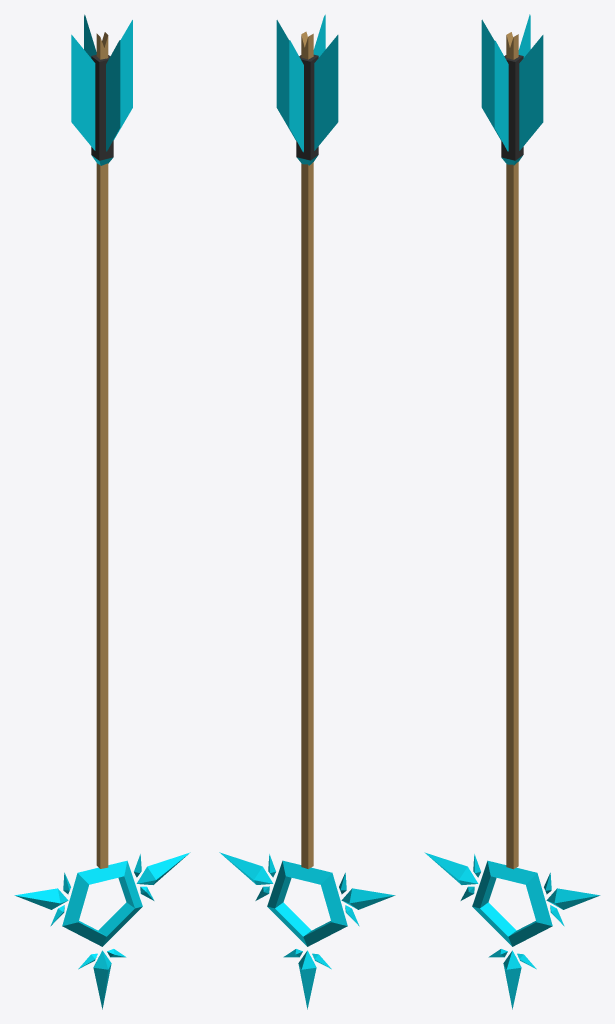
Rendered from Arrow_9.fbx.
3 views of the same model, side by side, from view 1: azimuth 30°, elevation 25°; view 2: azimuth 150°, elevation 25°; view 3: azimuth 330°, elevation 25° (orthographic).
Parts seen in each view (by area): view 1: Comp_Arrow_09; view 2: Comp_Arrow_09; view 3: Comp_Arrow_09.
Part boxes in pixels (bbox=[...]): Comp_Arrow_09: bbox=[14, 14, 190, 1009]; Comp_Arrow_09: bbox=[219, 14, 395, 1009]; Comp_Arrow_09: bbox=[424, 14, 600, 1009].
Bounding box in the file's own units: 35.08 × 187 × 12.18.
